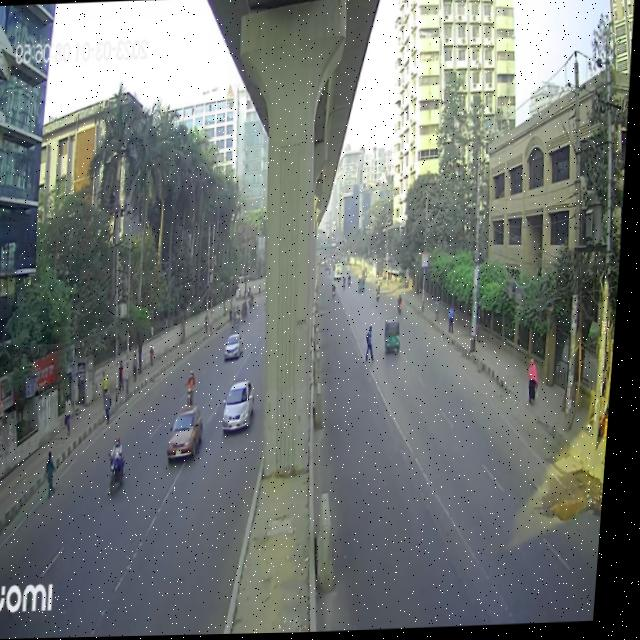cng: (384, 315, 407, 365)
